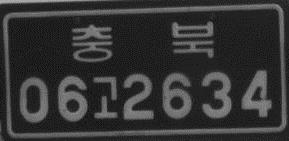0: (18, 76, 48, 125)
2: (122, 72, 154, 120)
3: (200, 70, 232, 120)
4: (239, 69, 273, 117)
6: (56, 73, 88, 124), (162, 71, 192, 121)
고: (91, 74, 118, 120)
충북_D: (69, 20, 215, 63)
